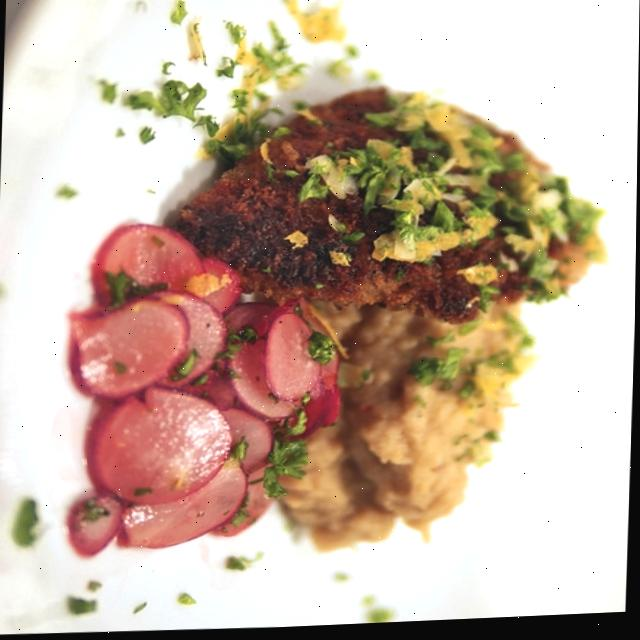猪肉菜式: (22, 18, 618, 577)
